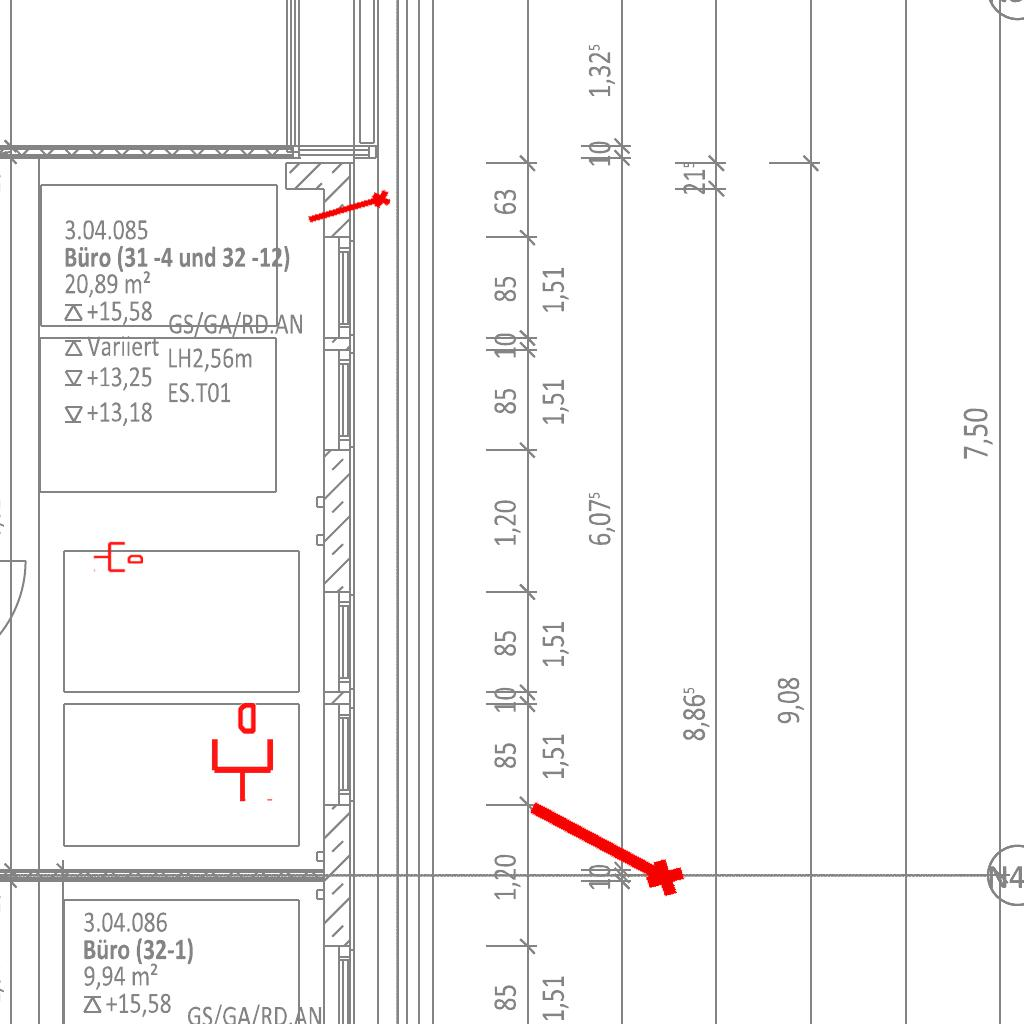ASR_Ansaugoeffnung: (515, 786, 693, 910), (303, 186, 395, 233)
Datenanschluss_einfach: (208, 703, 277, 803), (93, 540, 143, 574)
